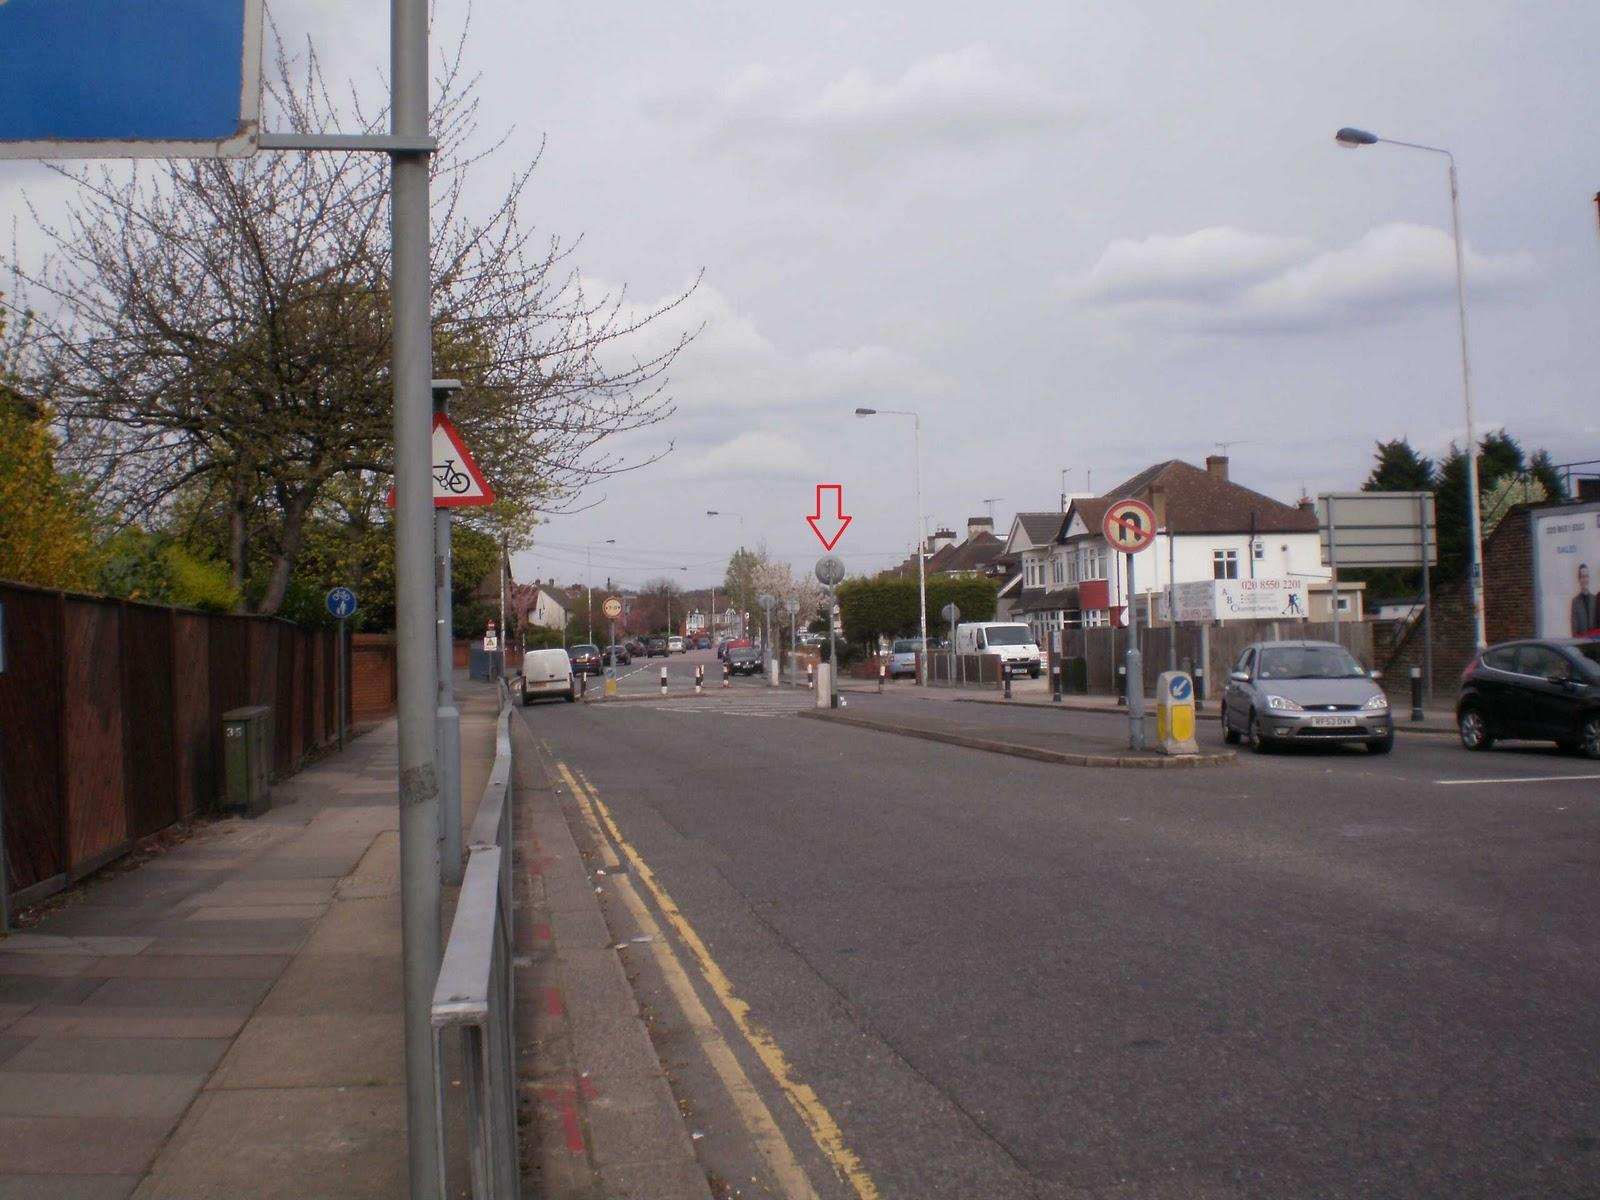no_u_turn: (1101, 498, 1157, 552)
